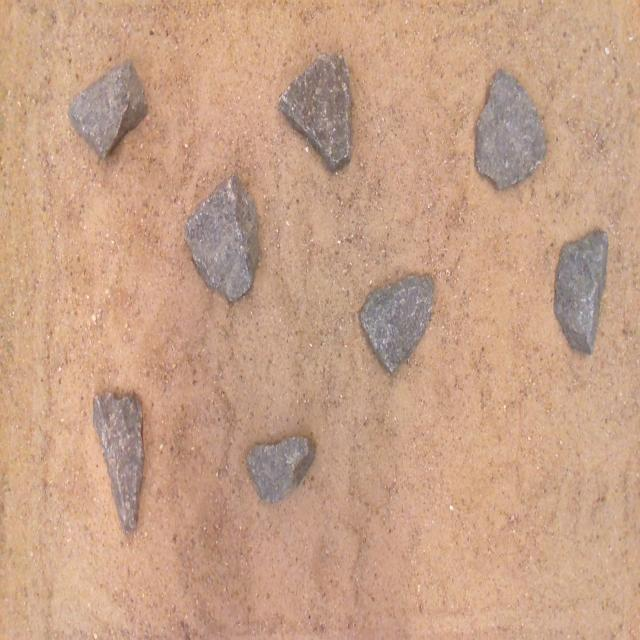rock: (184, 174, 259, 300), (476, 69, 546, 188), (279, 55, 352, 169), (68, 60, 147, 156), (360, 275, 434, 372), (93, 392, 144, 531), (554, 231, 608, 353), (247, 437, 315, 502)
